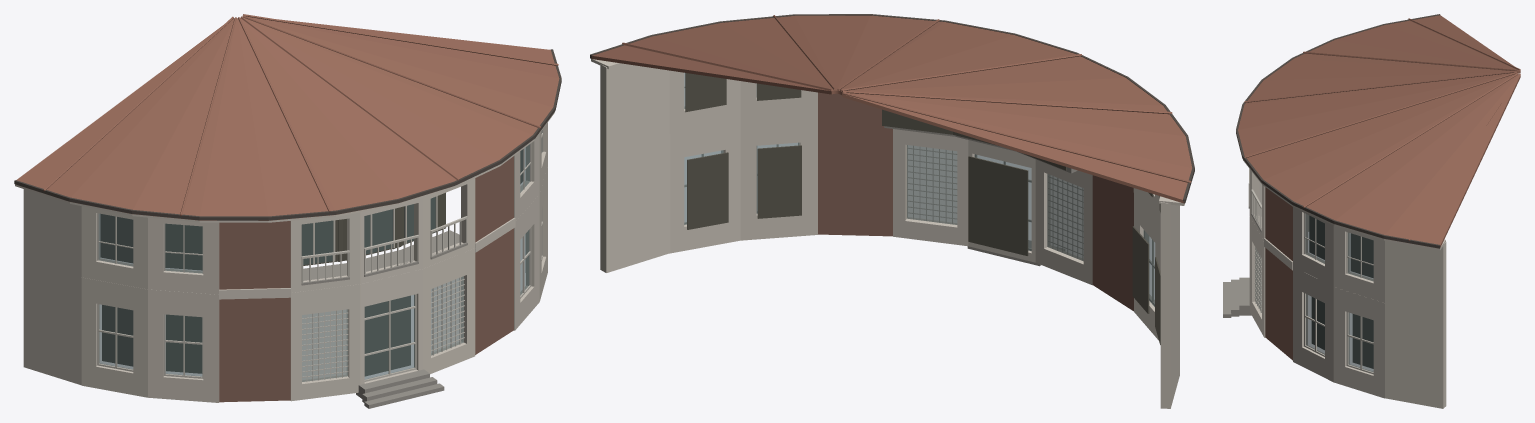
The model's file is lod-source.glb.
3 renders of one model, left to right at view 1: azimuth 30°, elevation 25°; view 2: azimuth 150°, elevation 25°; view 3: azimuth 270°, elevation 25°, orthographic. The views are drawn at different scales.
Visible parts, largest first — view 1: 新华路329弄36号双层圆形住宅庭院立面; view 2: 新华路329弄36号双层圆形住宅庭院立面; view 3: 新华路329弄36号双层圆形住宅庭院立面.
Part boxes in pixels (<box>): 新华路329弄36号双层圆形住宅庭院立面: <box>14,14,561,408</box>; 新华路329弄36号双层圆形住宅庭院立面: <box>590,14,1194,408</box>; 新华路329弄36号双层圆形住宅庭院立面: <box>1223,14,1520,408</box>.
Bounding box in the file's own units: 19 × 8.8 × 10.31.
